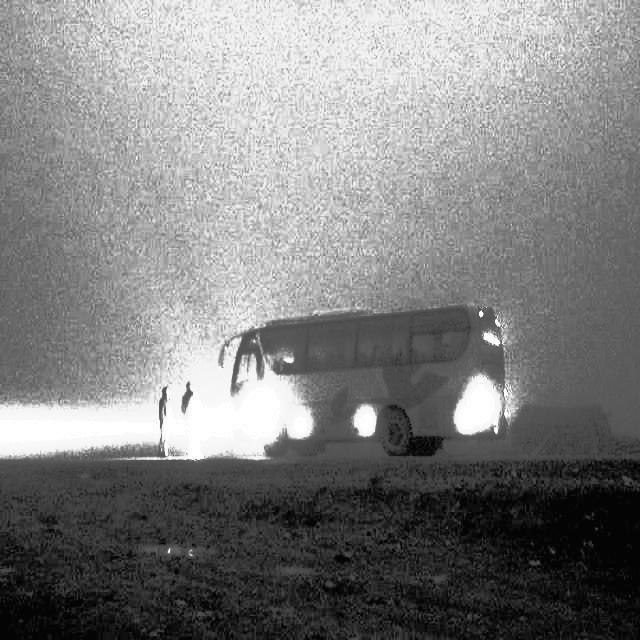Bus: (226, 303, 533, 462)
